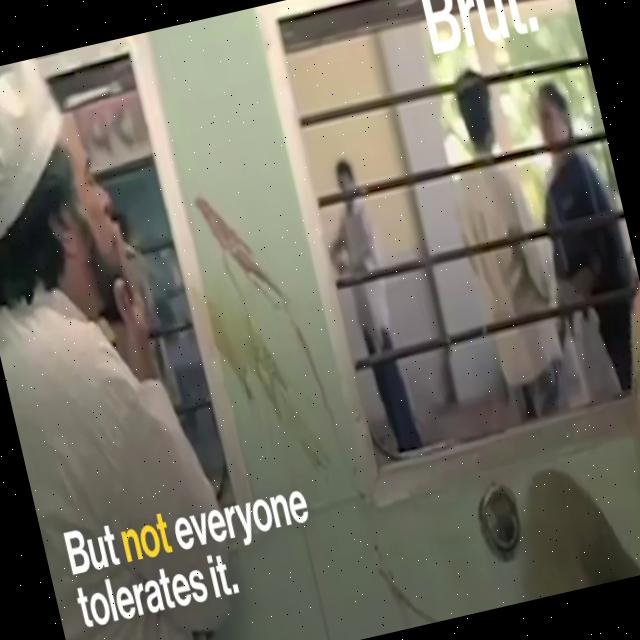spit: (68, 141, 374, 499)
